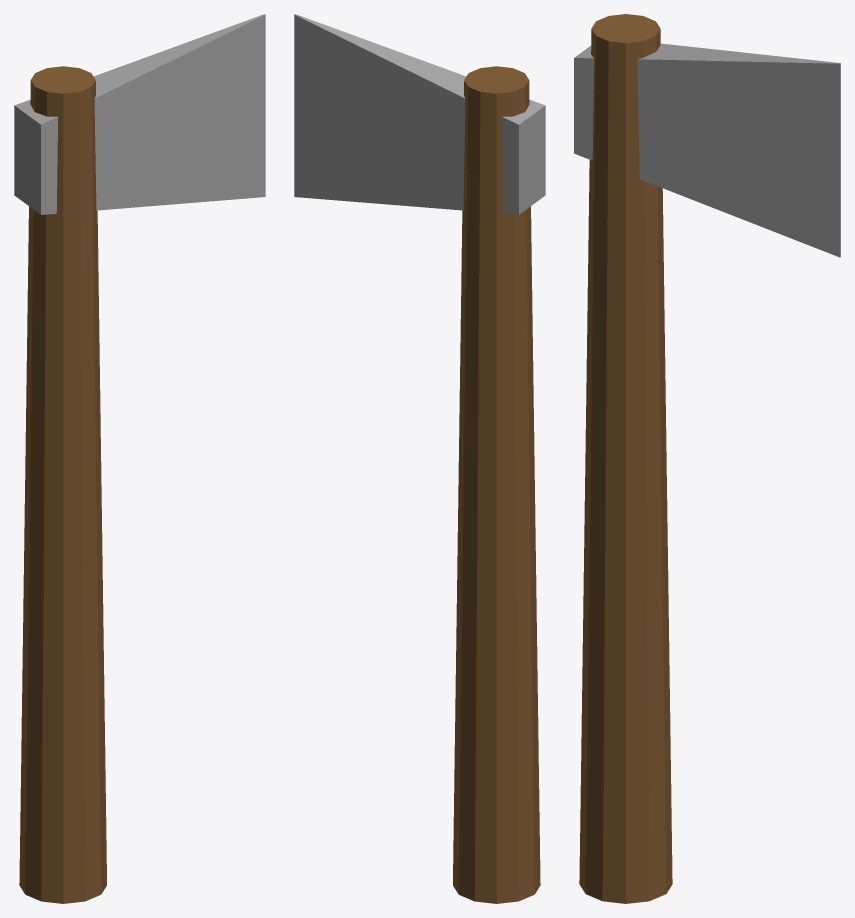
Rendered from expAxe.fbx.
The picture shows the model from 3 angles, left to right: view 1: azimuth 30°, elevation 25°; view 2: azimuth 150°, elevation 25°; view 3: azimuth 330°, elevation 25°; orthographic projection. The views are drawn at different scales.
Parts seen in each view (by area): view 1: pCylinder9, pCube3; view 2: pCylinder9, pCube3; view 3: pCylinder9, pCube3.
Part boxes in pixels (bbox=[...]): pCylinder9: bbox=[19, 66, 106, 903]; pCube3: bbox=[14, 14, 265, 214]; pCylinder9: bbox=[453, 66, 540, 903]; pCube3: bbox=[294, 14, 545, 214]; pCylinder9: bbox=[579, 14, 672, 903]; pCube3: bbox=[574, 43, 840, 257].
Bounding box in the file's own units: 43.13 × 141 × 13.65.
